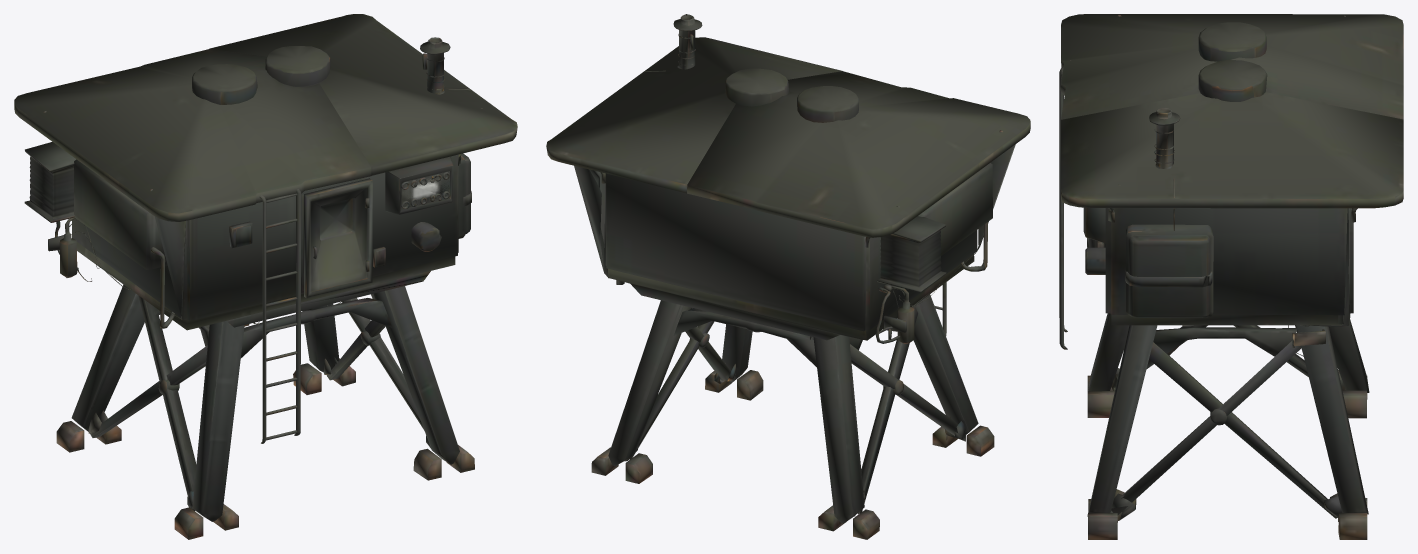
File: l_watchtower.glb
3 views of the same model, side by side, from view 1: azimuth 30°, elevation 25°; view 2: azimuth 150°, elevation 25°; view 3: azimuth 270°, elevation 25° (orthographic). The views are drawn at different scales.
Size of the model in its own units: 0.9087 by 0.9526 by 0.6943.
1 material, 1 textured.
